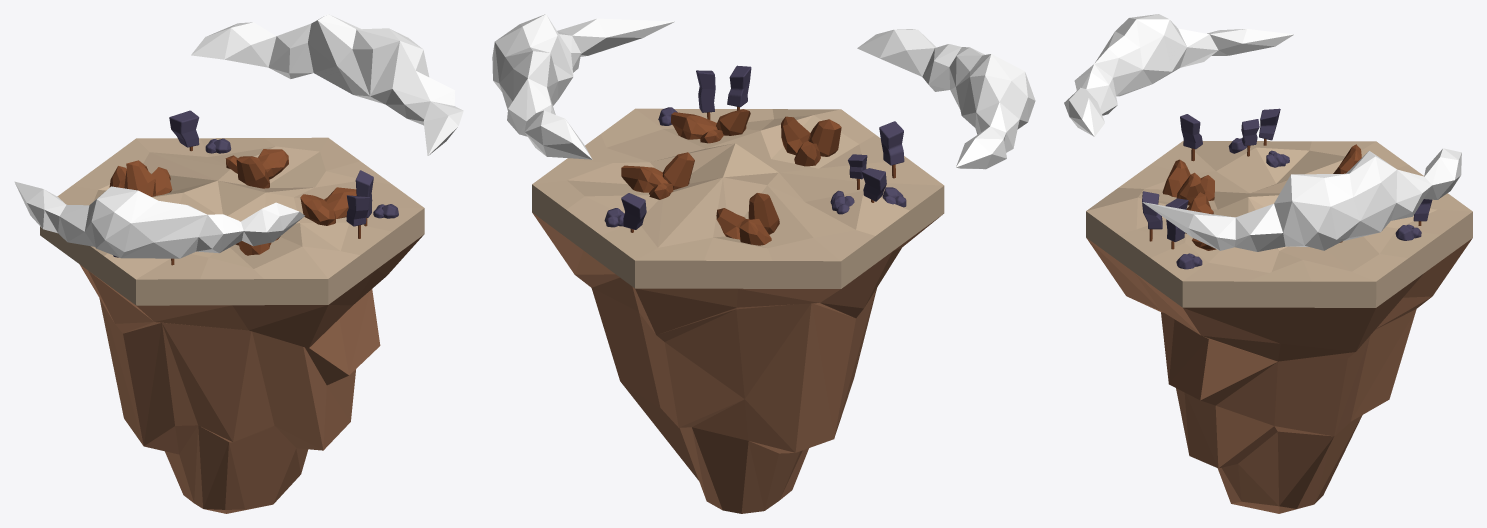
Rendered from terra (chao).fbx.
3 renders of one model, left to right at view 1: azimuth 30°, elevation 25°; view 2: azimuth 150°, elevation 25°; view 3: azimuth 270°, elevation 25°, orthographic. The views are drawn at different scales.
Visible parts, largest first — view 1: terra (Chão); view 2: terra (Chão); view 3: terra (Chão).
Boxes of the visible parts, x1,y1,x2,y2 form: terra (Chão): [14, 14, 463, 513]; terra (Chão): [492, 14, 1035, 513]; terra (Chão): [1064, 14, 1472, 513].
Size of the model in its own units: 1468 by 1394 by 1199.
